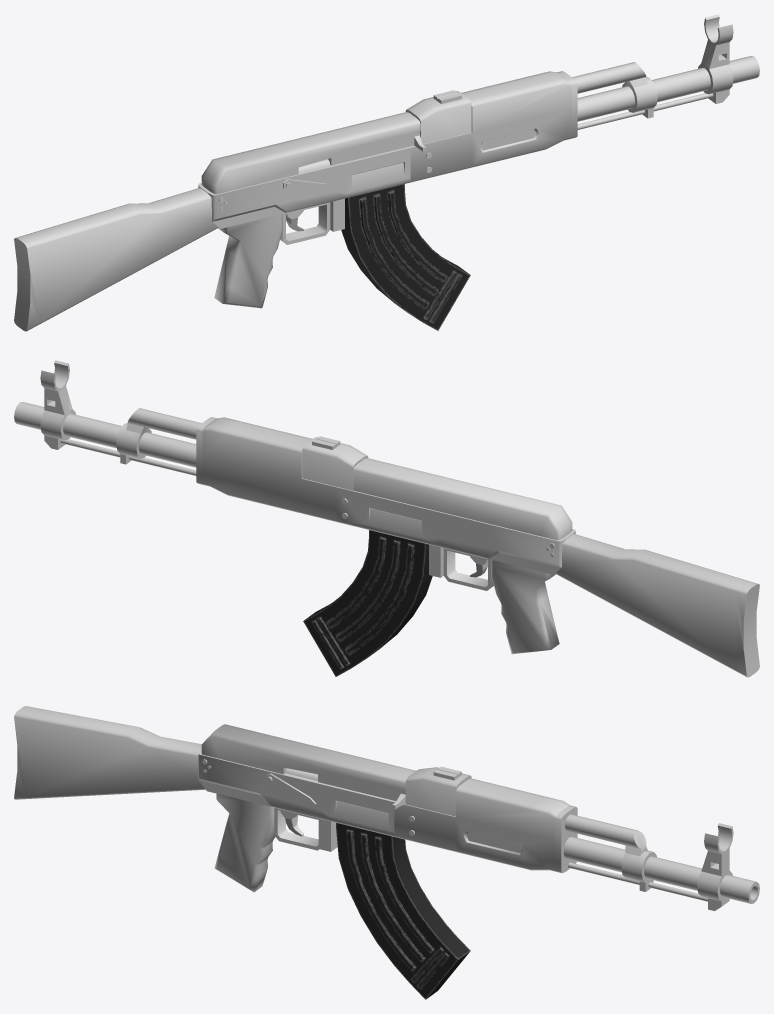
The picture shows the model from 3 angles, top to bottom: view 1: azimuth 30°, elevation 25°; view 2: azimuth 150°, elevation 25°; view 3: azimuth 330°, elevation 25°; orthographic projection.
Parts seen in each view (by area): view 1: AK, Magazine.001, Bolt; view 2: AK, Magazine.001; view 3: AK, Magazine.001, Bolt.
Boxes of the visible parts, x1,y1,x2,y2 form: AK: (14,14,759,331); Magazine.001: (341,184,470,330); Bolt: (328,131,426,165); AK: (14,360,759,677); Magazine.001: (303,530,432,676); AK: (14,706,759,910); Magazine.001: (336,823,470,999); Bolt: (318,774,405,809).
Size of the model in its own units: 0.8915 by 0.2736 by 0.0513.
